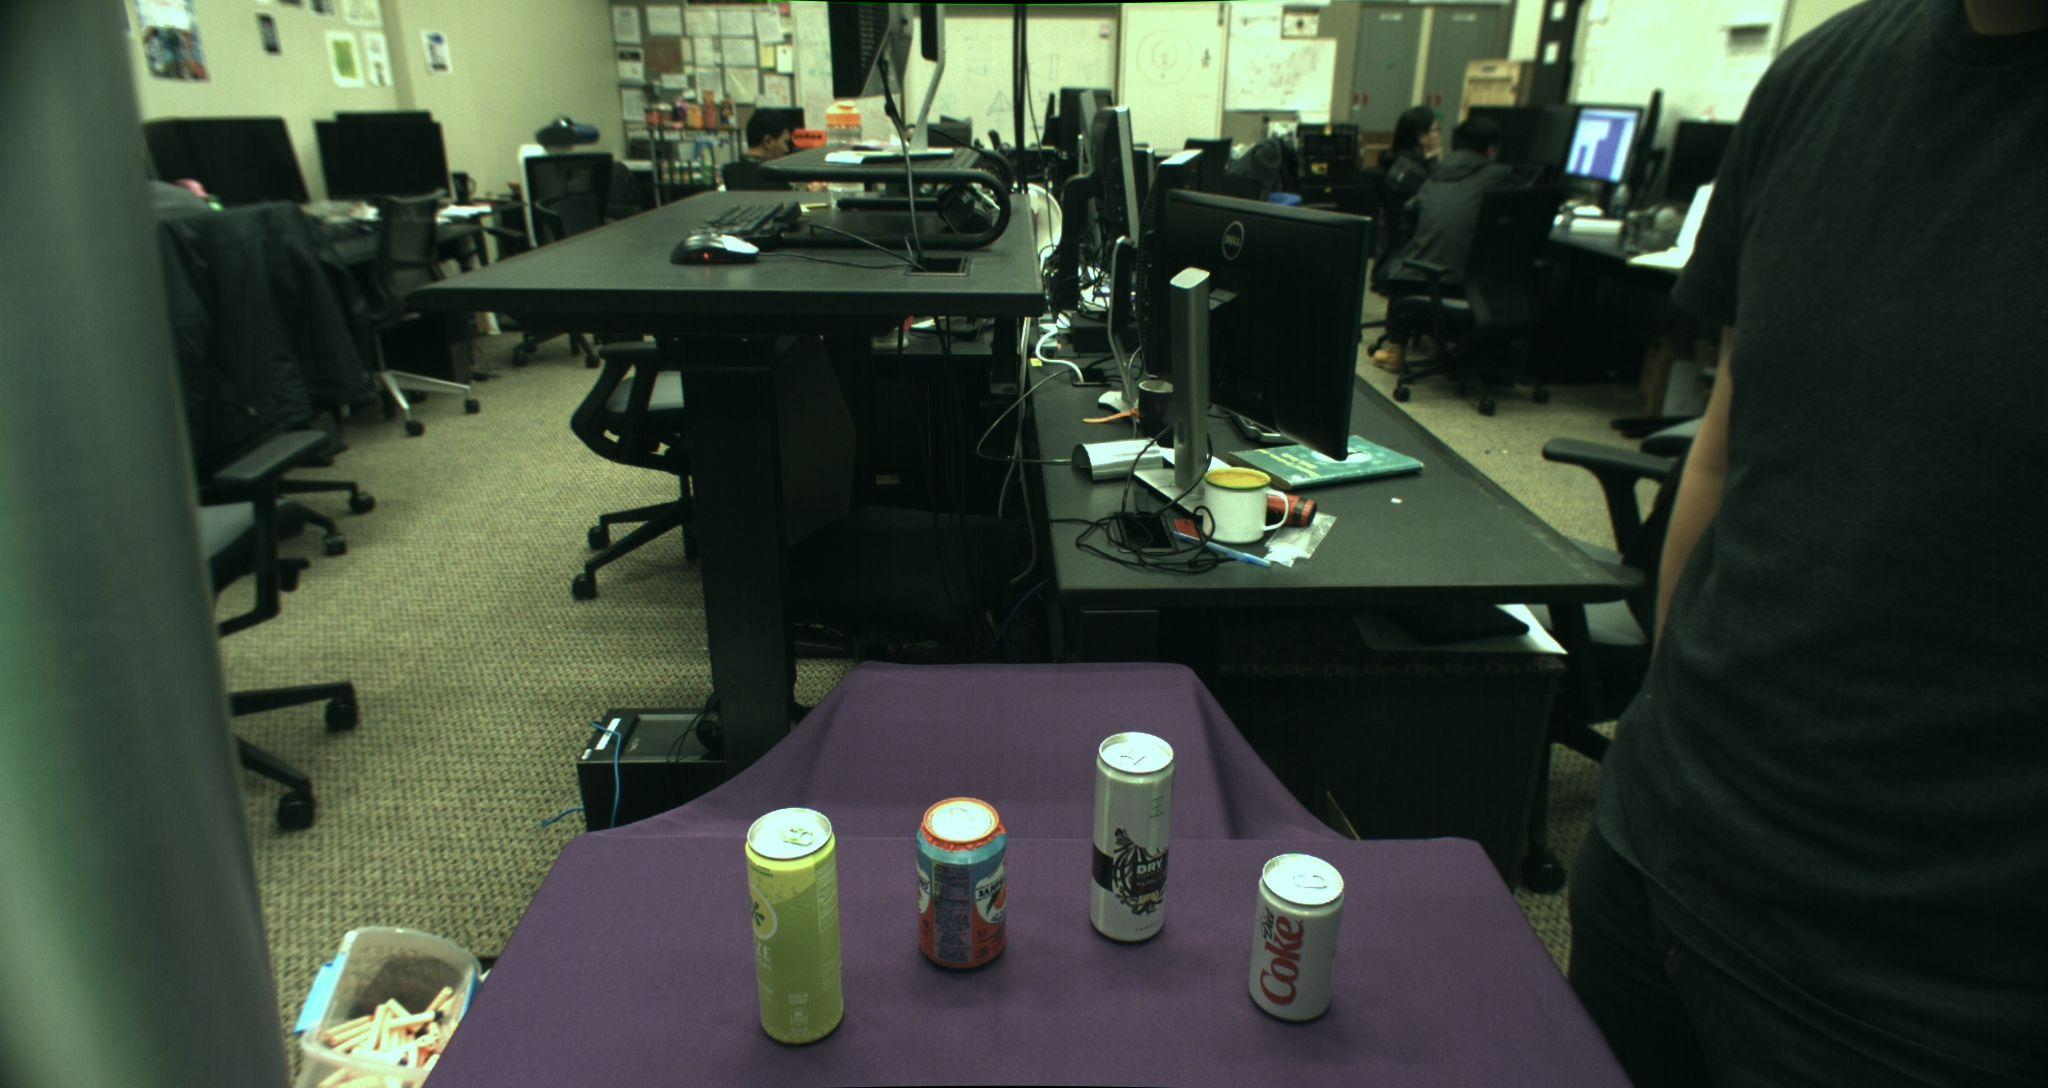can_diet_coke_small: (1246, 854, 1346, 1023)
can_dry_sparkling_vanilla_bean: (1089, 732, 1174, 944)
can_izze_fusions_lemon_lime: (745, 808, 842, 1045)
can_sanpellegrino_blood_orange: (916, 797, 1009, 971)
